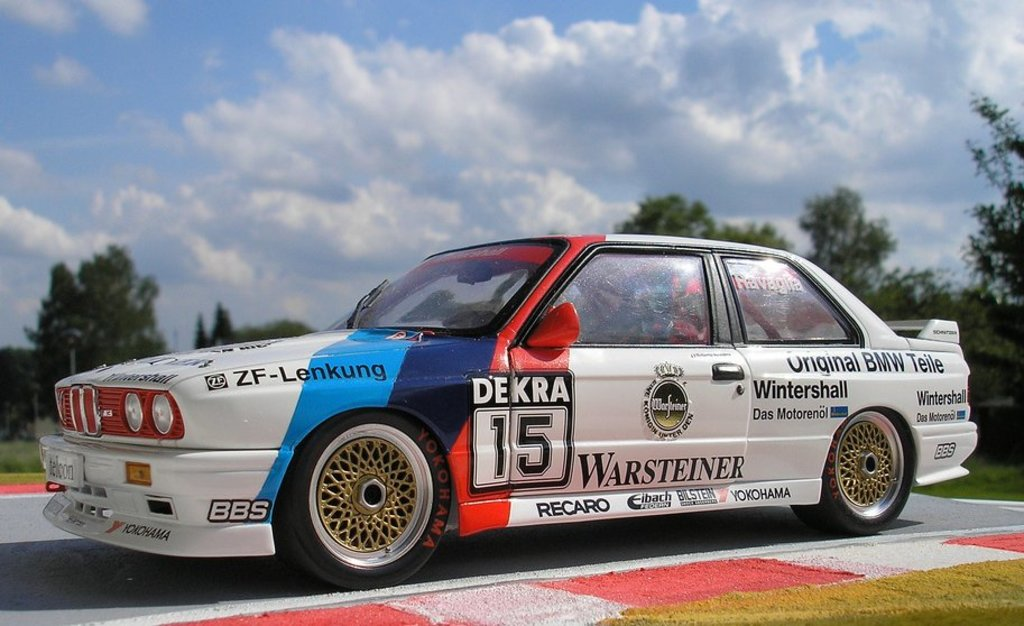Car: (38, 237, 976, 587)
